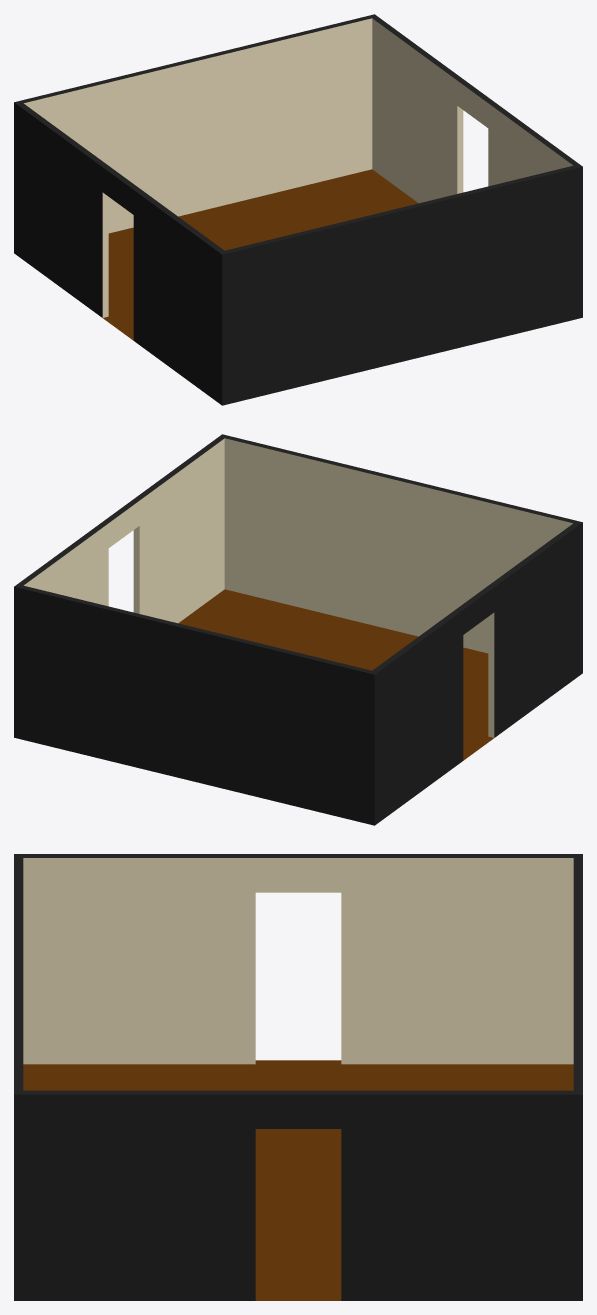
3 views of the same model, one above another, from view 1: azimuth 30°, elevation 25°; view 2: azimuth 150°, elevation 25°; view 3: azimuth 270°, elevation 25° (orthographic). The views are drawn at different scales.
Visible parts, largest first — view 1: PE_1x1_2DA; view 2: PE_1x1_2DA; view 3: PE_1x1_2DA.
Boxes of the visible parts, box(x1,y1,x2,y2) form: PE_1x1_2DA: box(14, 14, 582, 405); PE_1x1_2DA: box(14, 434, 582, 825); PE_1x1_2DA: box(14, 854, 582, 1300).
Bounding box in the file's own units: 24 × 9.6 × 24.
